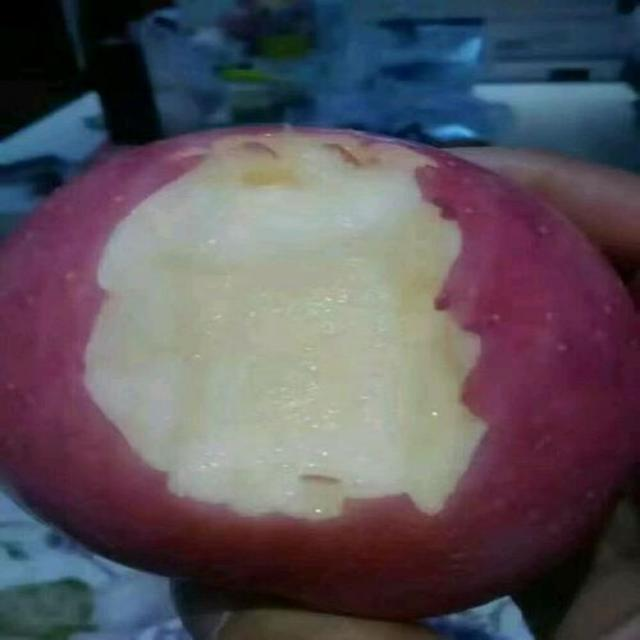Rotten: (0, 114, 640, 608)
